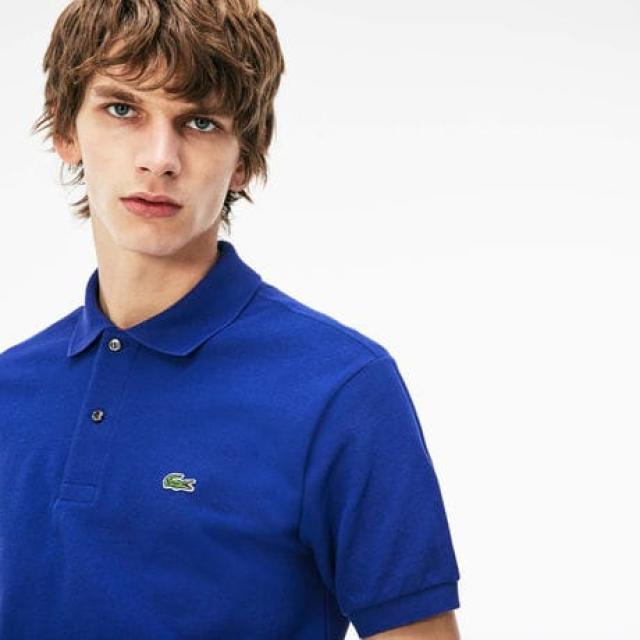mobile_phonerotation: (0, 0, 472, 639)
